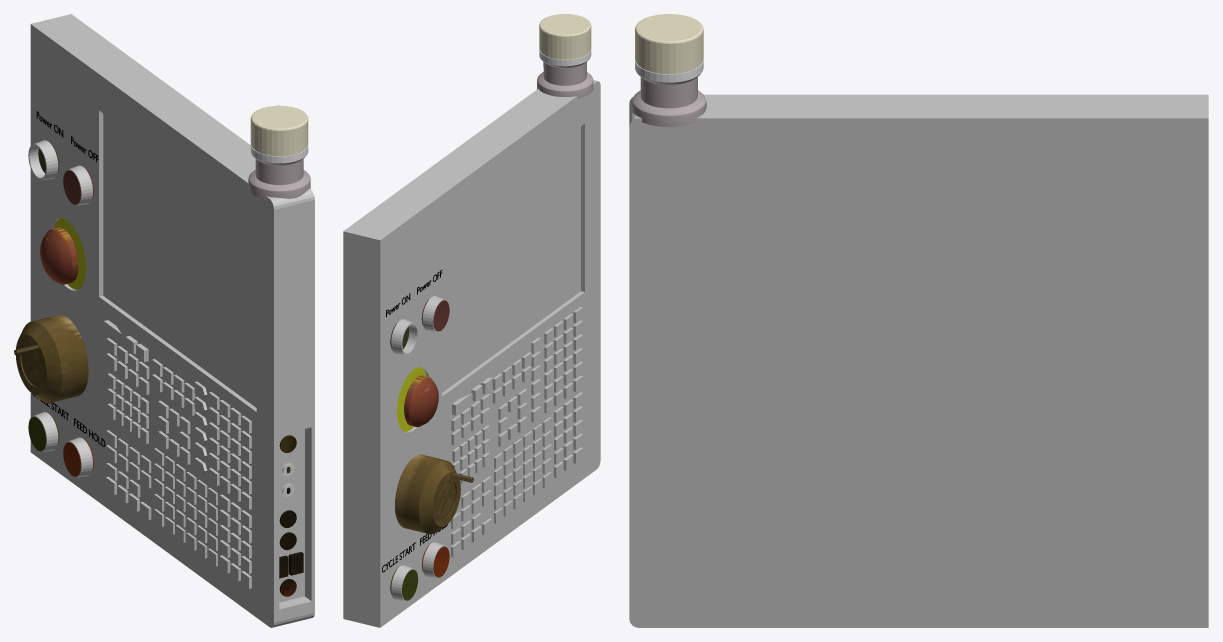
The model's file is REVISEDCONTROL.fbx.
The picture shows the model from 3 angles, left to right: view 1: azimuth 30°, elevation 25°; view 2: azimuth 150°, elevation 25°; view 3: azimuth 270°, elevation 25°; orthographic projection. The views are drawn at different scales.
Visible parts, largest first — view 1: Cube.1254, Cylinder.896, Cube.1257, Cube.1258, Cube.1256, Cylinder.892, Cylinder.895, Cylinder.894, Cube.1259, Cylinder.893; view 2: Cube.1254, Cylinder.896, Cube.1257, Cube.1258, Cube.1256, Cylinder.895, Cylinder.894, Cube.1259, Cylinder.893; view 3: Cube.1254, Cube.1257, Cube.1256.
Part boxes in pixels (x1,y1,x2,y2): Cube.1254: [28, 14, 314, 627]; Cylinder.896: [14, 314, 88, 403]; Cube.1257: [250, 105, 308, 163]; Cube.1258: [41, 37, 77, 127]; Cube.1256: [248, 155, 310, 199]; Cylinder.892: [279, 435, 303, 596]; Cylinder.895: [40, 227, 78, 284]; Cylinder.894: [28, 415, 93, 476]; Cube.1259: [54, 218, 86, 289]; Cylinder.893: [63, 168, 93, 204]; Cube.1254: [343, 80, 600, 627]; Cylinder.896: [395, 454, 473, 534]; Cube.1257: [539, 14, 591, 66]; Cube.1258: [390, 213, 423, 295]; Cube.1256: [537, 59, 593, 98]; Cylinder.895: [404, 375, 438, 427]; Cylinder.894: [390, 545, 449, 600]; Cube.1259: [397, 367, 426, 431]; Cylinder.893: [421, 299, 449, 331]; Cube.1254: [629, 94, 1208, 627]; Cube.1257: [635, 14, 703, 82]; Cube.1256: [632, 74, 706, 127].
Bounding box in the file's own units: 0.1453 × 0.6375 × 0.568.
